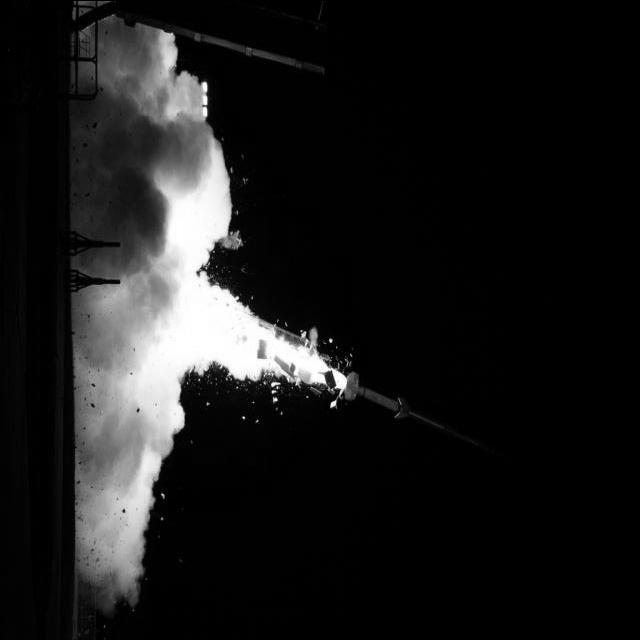missile: (342, 369, 450, 441)
